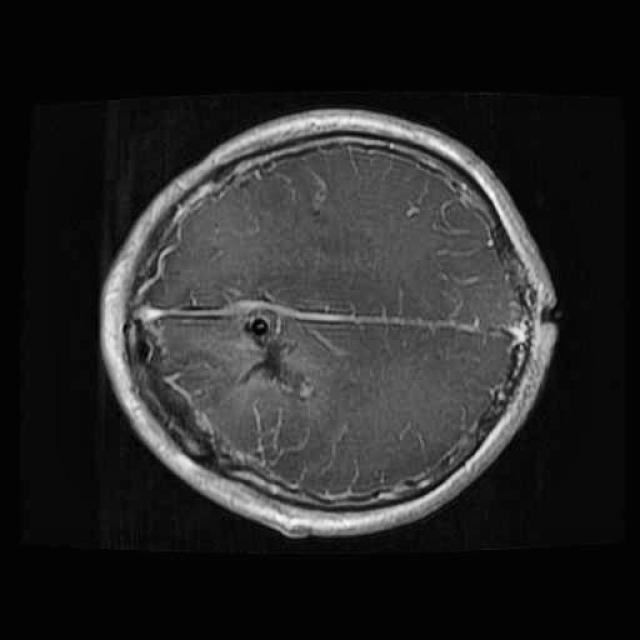Tumor: (236, 310, 308, 399)
